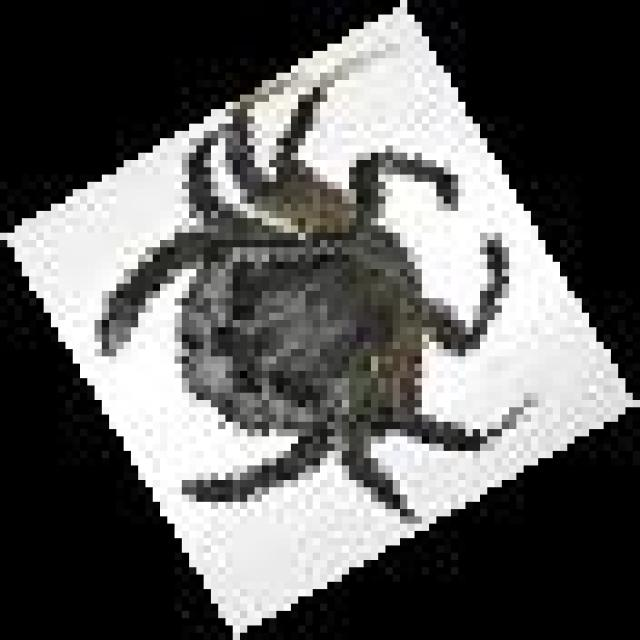European Green crab: (95, 80, 516, 509)
